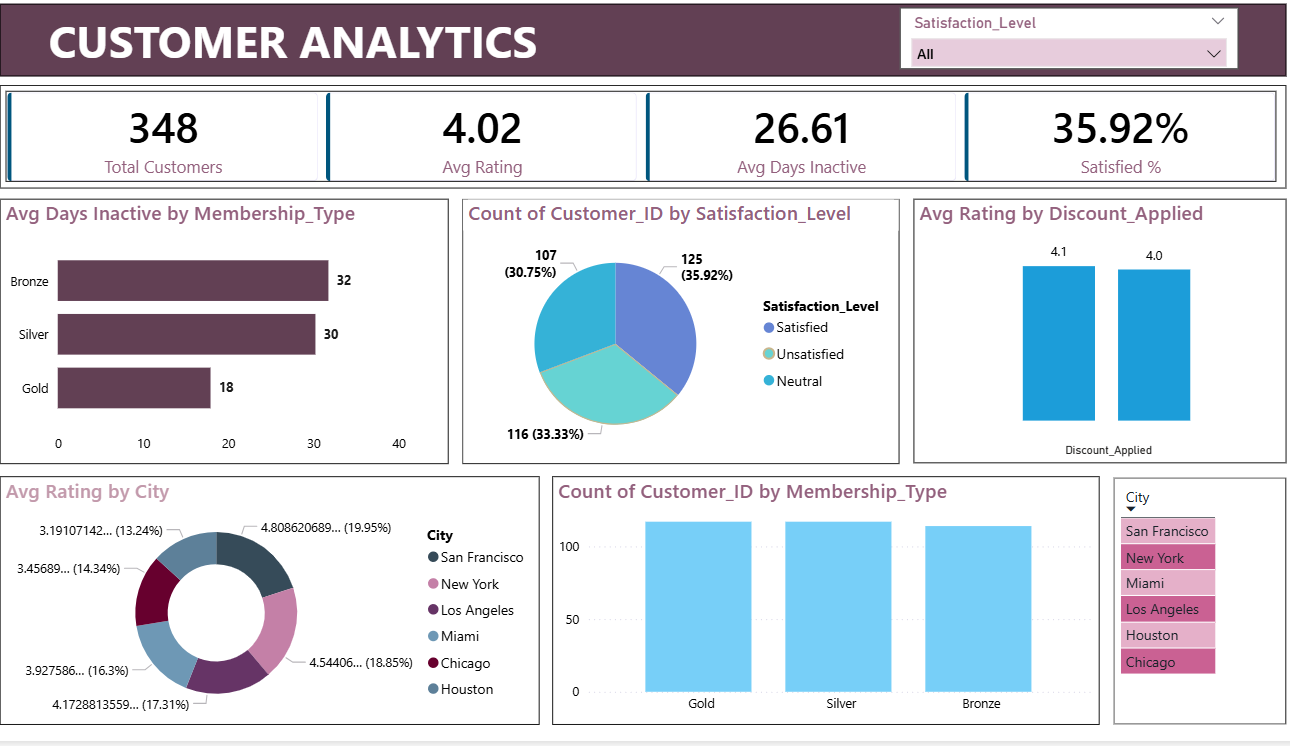

What the dashboard file says about the page in this screenshot:
{"tool":"powerbi","page":{"name":"Page 1","canvas":[1280,720],"ordinal":0},"visuals":[{"type":"clusteredBarChart","fields":{"Category":["customer_data.Membership_Type"],"Y":["customer_data.Avg Days Inactive"]},"box":[22.8,200.1,430.3,254.1],"z":0},{"type":"columnChart","fields":{"Category":["customer_data.Discount_Applied"],"Y":["customer_data.Avg Rating"]},"box":[898.8,200.5,357.8,253.9],"z":1000},{"type":"donutChart","fields":{"Category":["customer_data.City"],"Y":["customer_data.Avg Rating"]},"box":[23.1,466,518,238.1],"z":2000},{"type":"tableEx","fields":{"Values":["customer_data.City"]},"box":[1090.7,467.5,165.9,236.6],"z":3000},{"type":"pieChart","fields":{"Y":["CountNonNull(customer_data.Customer_ID)"],"Category":["customer_data.Satisfaction_Level"]},"box":[466.2,200.1,419.5,254.1],"z":4000},{"type":"columnChart","fields":{"Category":["customer_data.Membership_Type"],"Y":["CountNonNull(customer_data.Customer_ID)"]},"box":[552.6,466,525.2,238.1],"z":5000},{"type":"textbox","box":[23.1,13,1233.6,69.3],"z":6000},{"type":"cardVisual","fields":{"Data":["customer_data.Total Customers","customer_data.Avg Rating","customer_data.Avg Days Inactive","customer_data.Satisfied %"]},"box":[23.1,90.9,1233.6,99.6],"z":7000},{"type":"slicer","fields":{"Values":["customer_data.Satisfaction_Level"]},"box":[885.9,17.3,324.6,59.2],"z":8000}]}

Visuals, with their boxes in screenshot pixels (x1, y1, x2, y2), scaled from the page's 1280x720 canvas onto the 1290x746 screenshot:
clusteredBarChart - customer_data.Membership_Type x customer_data.Avg Days Inactive: 23, 207, 457, 471
columnChart - customer_data.Discount_Applied x customer_data.Avg Rating: 906, 208, 1266, 471
donutChart - customer_data.City x customer_data.Avg Rating: 23, 483, 545, 730
tableEx - customer_data.City: 1099, 484, 1266, 730
pieChart - CountNonNull(customer_data.Customer_ID) x customer_data.Satisfaction_Level: 470, 207, 893, 471
columnChart - customer_data.Membership_Type x CountNonNull(customer_data.Customer_ID): 557, 483, 1086, 730
textbox: 23, 13, 1267, 85
cardVisual - customer_data.Total Customers x customer_data.Avg Rating: 23, 94, 1267, 197
slicer - customer_data.Satisfaction_Level: 893, 18, 1220, 79
